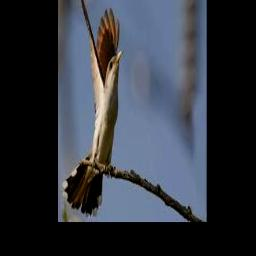Cuckoo: (63, 0, 124, 215)
